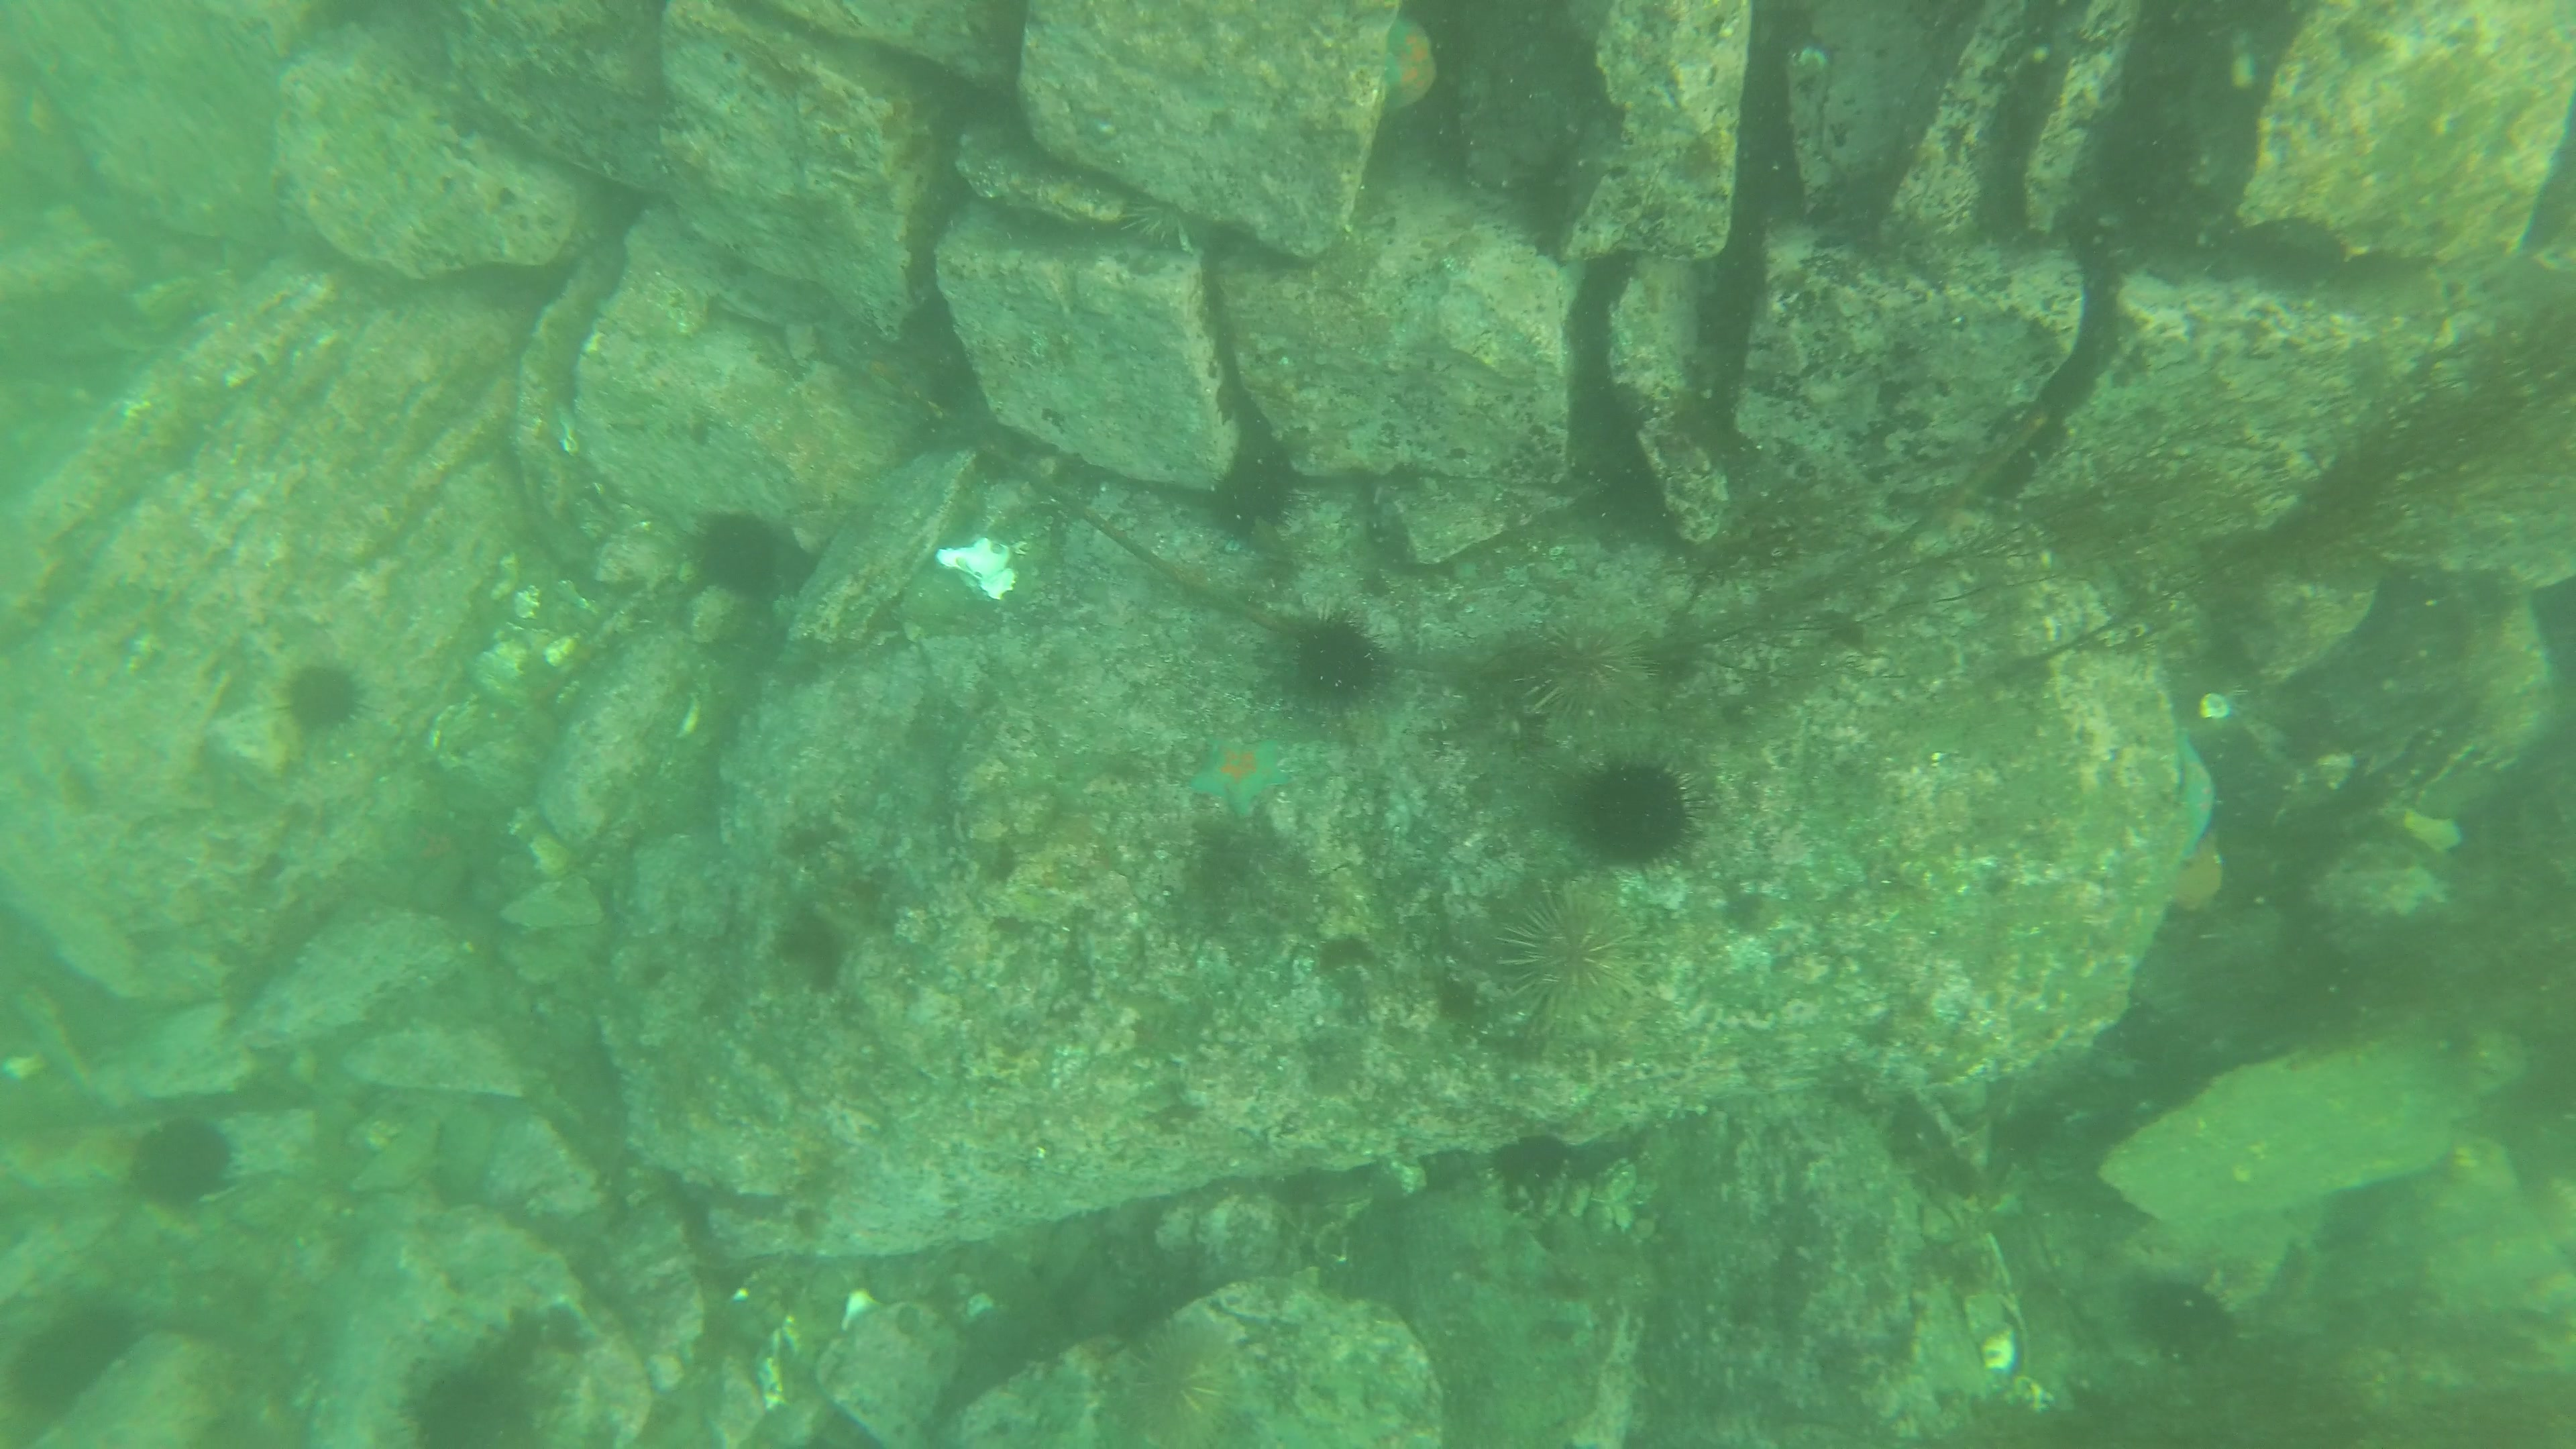echinus: (1499, 879, 1635, 1019), (1516, 612, 1656, 736), (1118, 1322, 1253, 1449), (1562, 755, 1702, 876), (1281, 605, 1394, 715), (129, 1116, 241, 1214), (2134, 1267, 2235, 1361), (688, 506, 778, 602), (280, 658, 372, 743)
starfish: (1194, 727, 1300, 828), (387, 801, 479, 881), (2164, 732, 2224, 844), (1382, 12, 1444, 119)
